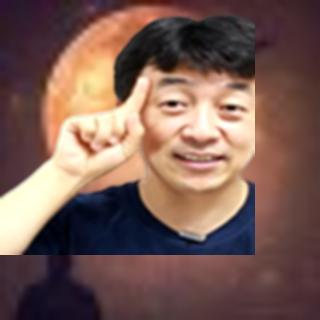IRRITATED: (49, 72, 155, 181)
